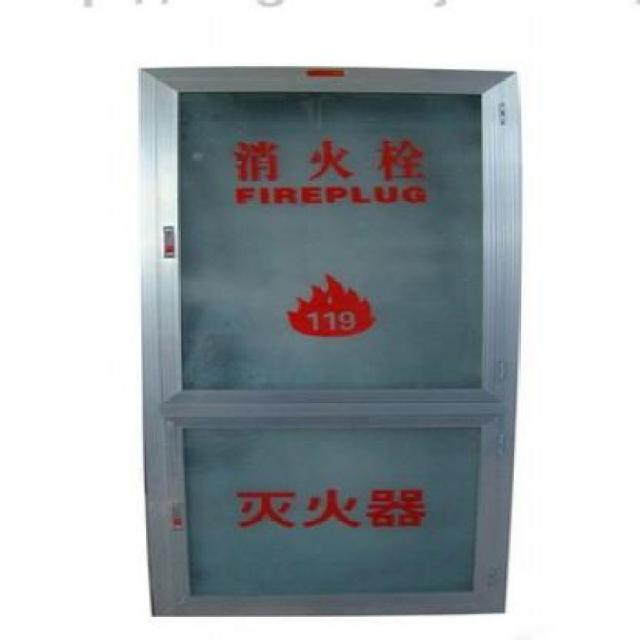firehydrant: (131, 61, 535, 618)
